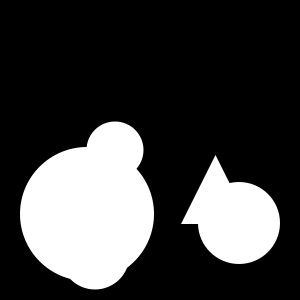rectangle: (20, 147, 154, 281), (198, 182, 280, 264), (60, 220, 130, 290), (86, 122, 144, 178)
triangle: (181, 155, 250, 224)
